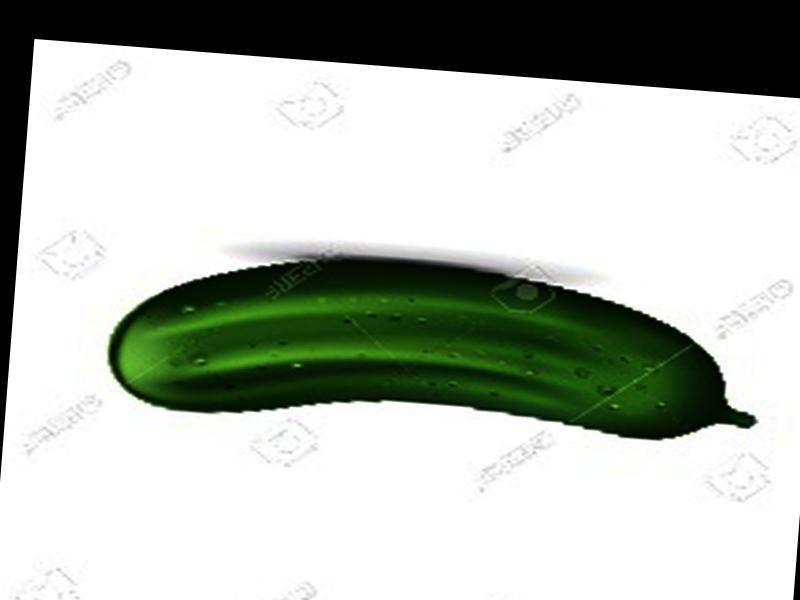Cucumber: (104, 238, 763, 454)
